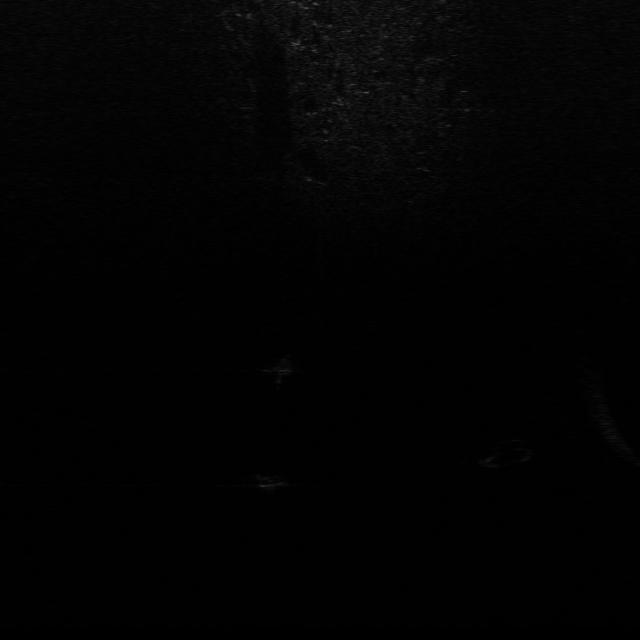cube: (248, 470, 292, 494)
square cage: (261, 351, 298, 379)
tyre: (476, 436, 536, 471)
